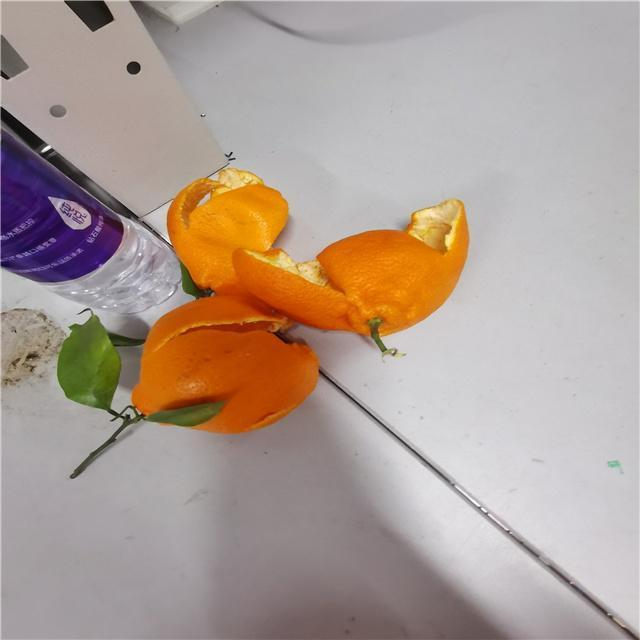orange peel: (224, 185, 474, 341), (128, 286, 354, 434), (161, 162, 287, 294)
